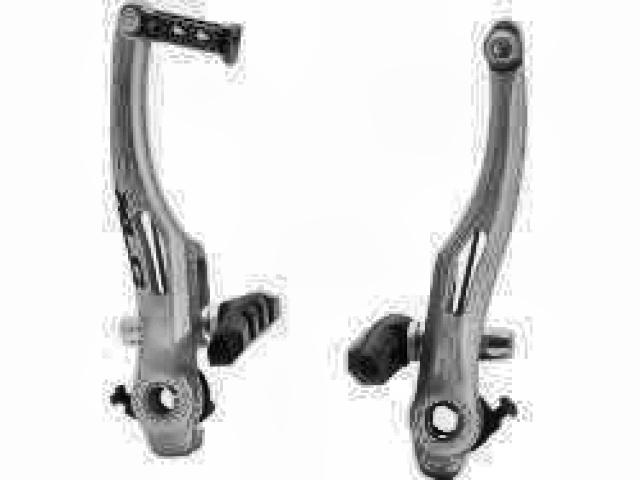rim_brake: (106, 4, 531, 468)
